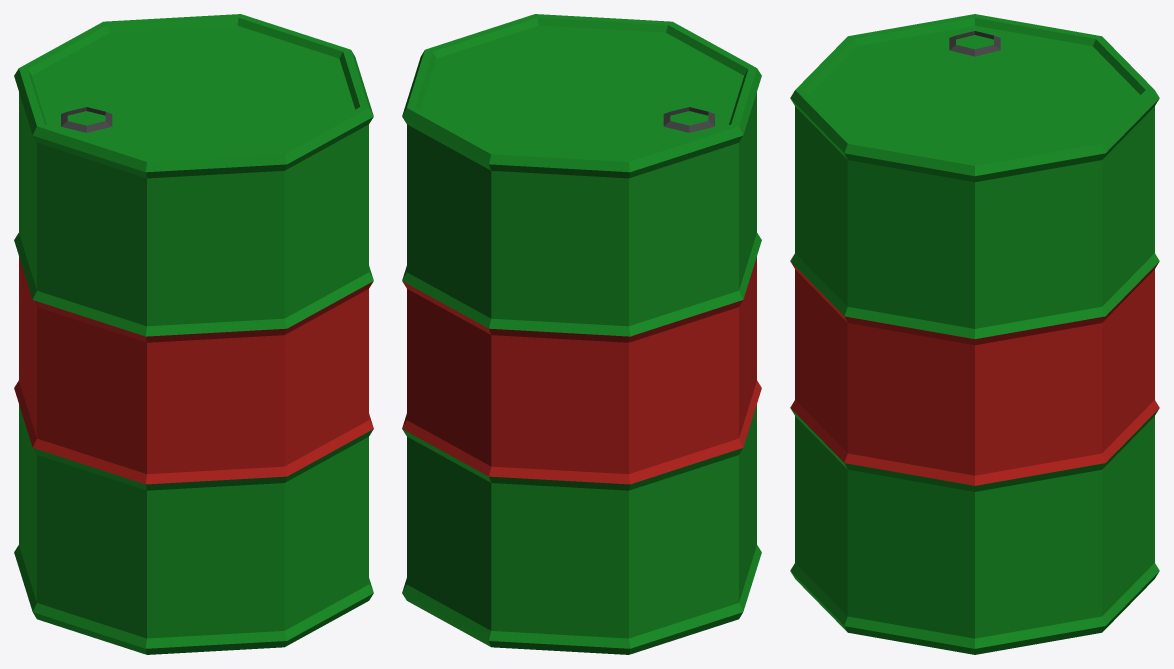
File: DrumGreenRed.fbx
The picture shows the model from 3 angles, left to right: view 1: azimuth 30°, elevation 25°; view 2: azimuth 150°, elevation 25°; view 3: azimuth 270°, elevation 25°; orthographic projection.
Visible parts, largest first — view 1: Cylinder; view 2: Cylinder; view 3: Cylinder.
Part boxes in pixels (x1=…): Cylinder: x1=14, y1=14, x2=373, y2=654; Cylinder: x1=402, y1=14, x2=761, y2=654; Cylinder: x1=790, y1=14, x2=1159, y2=654.
Size of the model in its own units: 0.822 by 1.2 by 0.822.
